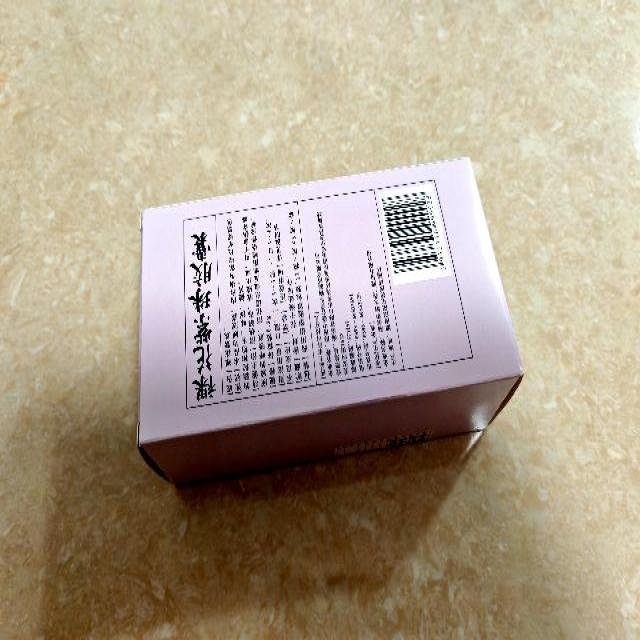box: (137, 159, 525, 489)
